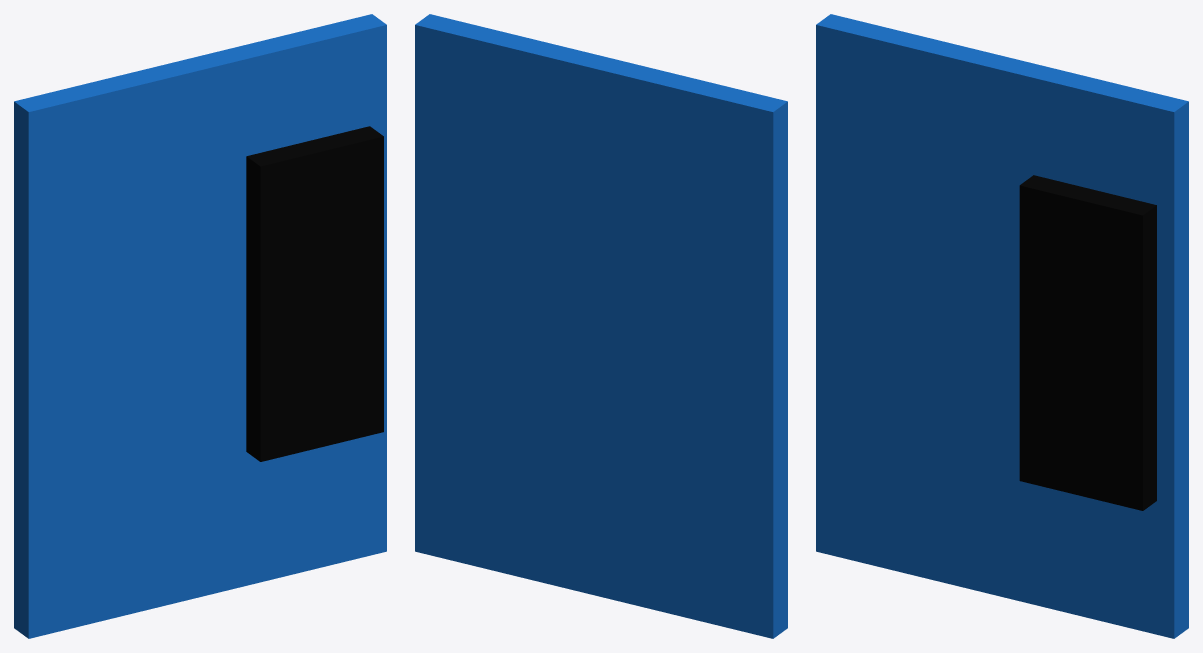
File: SM_box_with_flash_drive.fbx
The picture shows the model from 3 angles, left to right: view 1: azimuth 30°, elevation 25°; view 2: azimuth 150°, elevation 25°; view 3: azimuth 330°, elevation 25°; orthographic projection.
Visible parts, largest first — view 1: box_with_flash_drive; view 2: box_with_flash_drive; view 3: box_with_flash_drive.
Boxes of the visible parts, x1,y1,x2,y2 form: box_with_flash_drive: [14, 14, 386, 638]; box_with_flash_drive: [415, 14, 787, 638]; box_with_flash_drive: [816, 14, 1188, 638].
Size of the model in its own units: 13.98 by 19.65 by 1.95.
